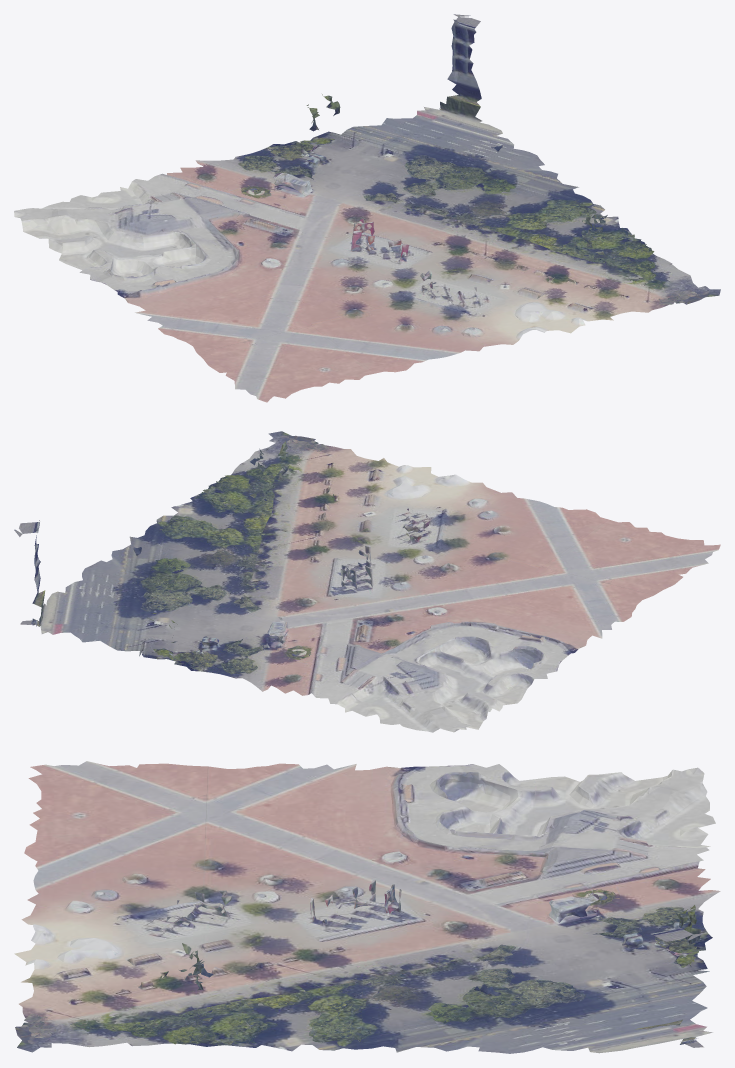
3 renders of one model, top to bottom at view 1: azimuth 30°, elevation 25°; view 2: azimuth 150°, elevation 25°; view 3: azimuth 270°, elevation 25°, orthographic. The views are drawn at different scales.
Size of the model in its own units: 107 by 23.29 by 108.
Materials: 1 (1 with a texture image).
